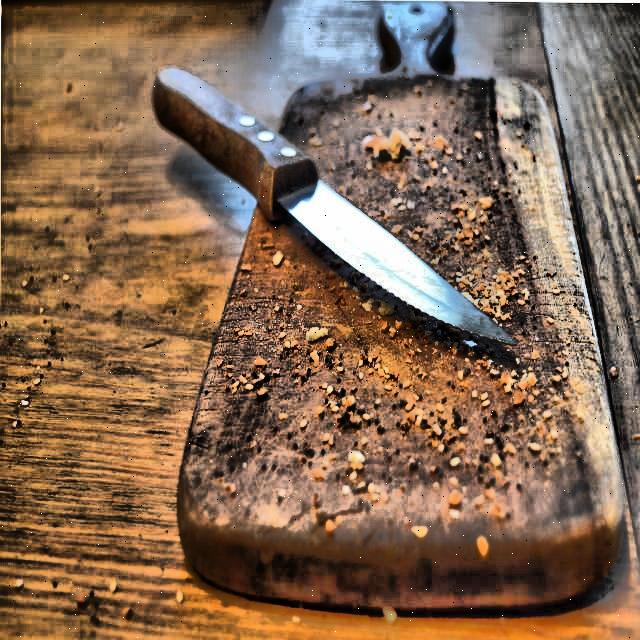knife: (153, 64, 526, 353)
